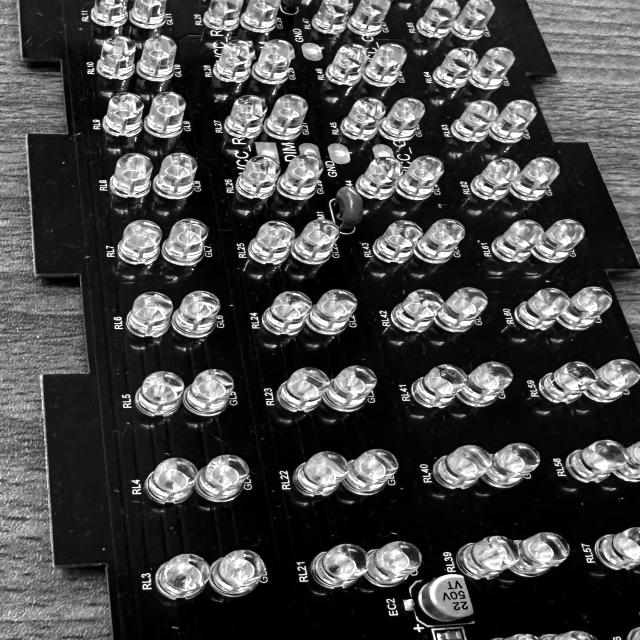Capacitor: (421, 574, 488, 621), (441, 631, 462, 640)
EMC filter: (333, 185, 363, 232), (279, 0, 305, 14)
Soldering: (436, 632, 446, 640)
led: (537, 357, 600, 406), (206, 547, 264, 598), (564, 438, 628, 484), (481, 442, 543, 488), (460, 534, 520, 581), (339, 447, 399, 494), (433, 443, 494, 489), (152, 552, 210, 600), (365, 539, 423, 587), (514, 530, 571, 578), (409, 362, 466, 410), (324, 362, 378, 412), (312, 541, 368, 589), (438, 284, 492, 333), (293, 450, 349, 497), (556, 285, 613, 331), (197, 453, 250, 502), (532, 215, 587, 262), (171, 289, 222, 339), (588, 354, 640, 403), (512, 287, 568, 332), (184, 368, 235, 417), (392, 287, 446, 333), (280, 366, 331, 414), (395, 154, 446, 202), (413, 217, 465, 264), (490, 218, 545, 262), (309, 285, 358, 334), (262, 289, 312, 337), (489, 95, 539, 143), (463, 359, 514, 406), (134, 370, 186, 416), (467, 157, 521, 200), (513, 154, 561, 202), (108, 151, 155, 200), (148, 457, 198, 503), (373, 219, 424, 263), (127, 290, 172, 338), (467, 43, 515, 88), (154, 151, 197, 201), (450, 99, 499, 142), (116, 219, 162, 264), (296, 218, 341, 264), (339, 94, 384, 140), (250, 38, 294, 85), (355, 156, 404, 198), (164, 218, 208, 264), (382, 94, 426, 140), (144, 91, 187, 138), (137, 32, 178, 81), (595, 526, 640, 570), (249, 219, 293, 264), (277, 154, 322, 198), (434, 46, 479, 90), (236, 154, 279, 200), (102, 90, 144, 137), (265, 94, 309, 138), (413, 0, 462, 39), (222, 94, 265, 138), (94, 33, 136, 78), (365, 43, 408, 86), (212, 39, 254, 81), (325, 44, 368, 85), (454, 0, 497, 39), (348, 0, 391, 36), (611, 437, 640, 483), (311, 0, 350, 32), (129, 0, 170, 29), (243, 0, 280, 32), (204, 0, 241, 30), (91, 0, 126, 26), (543, 630, 602, 640)
